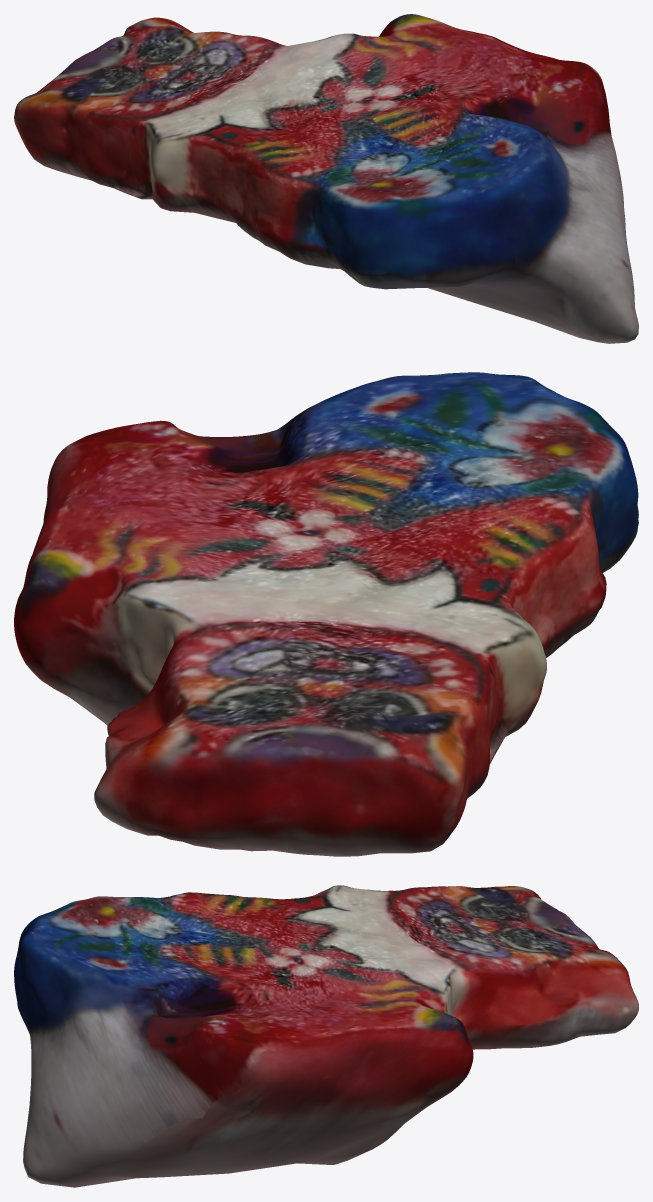
3 renders of one model, top to bottom at view 1: azimuth 30°, elevation 25°; view 2: azimuth 150°, elevation 25°; view 3: azimuth 270°, elevation 25°, orthographic. The views are drawn at different scales.
Bounding box in the file's own units: 0.4014 × 0.1707 × 0.5148.
Materials: 1 (1 with a texture image).
